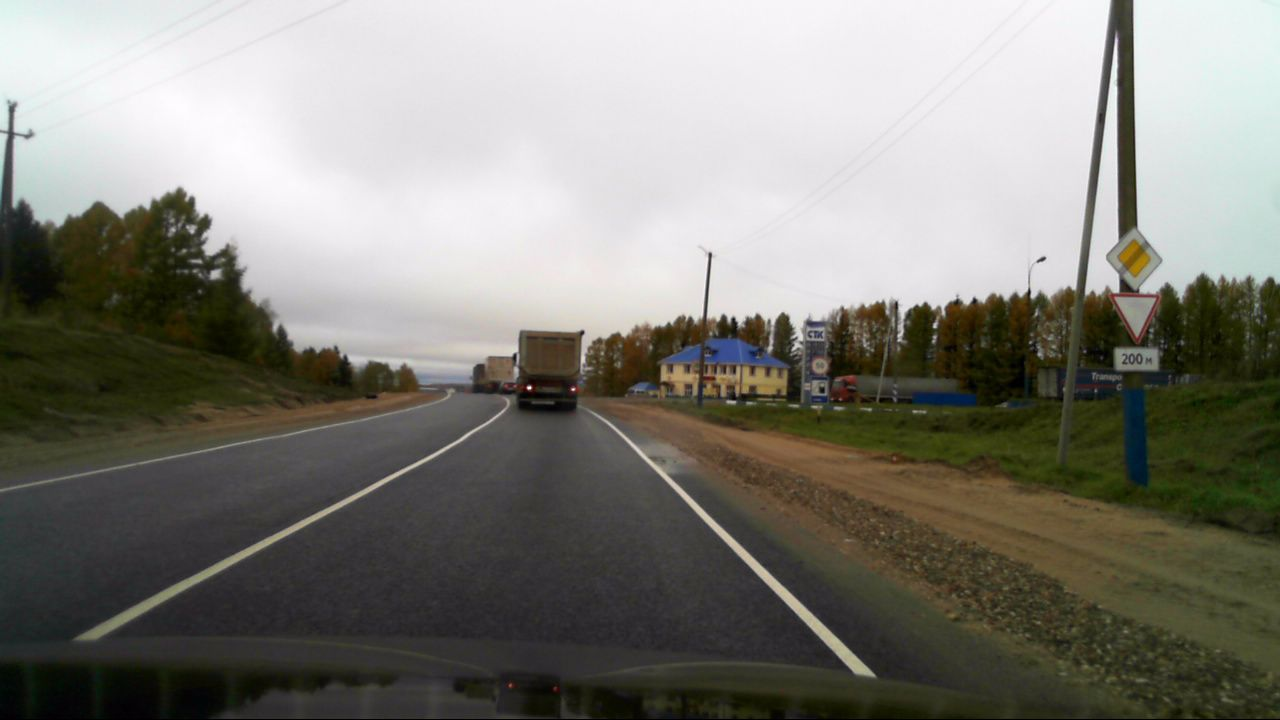main road: (1105, 229, 1163, 291)
